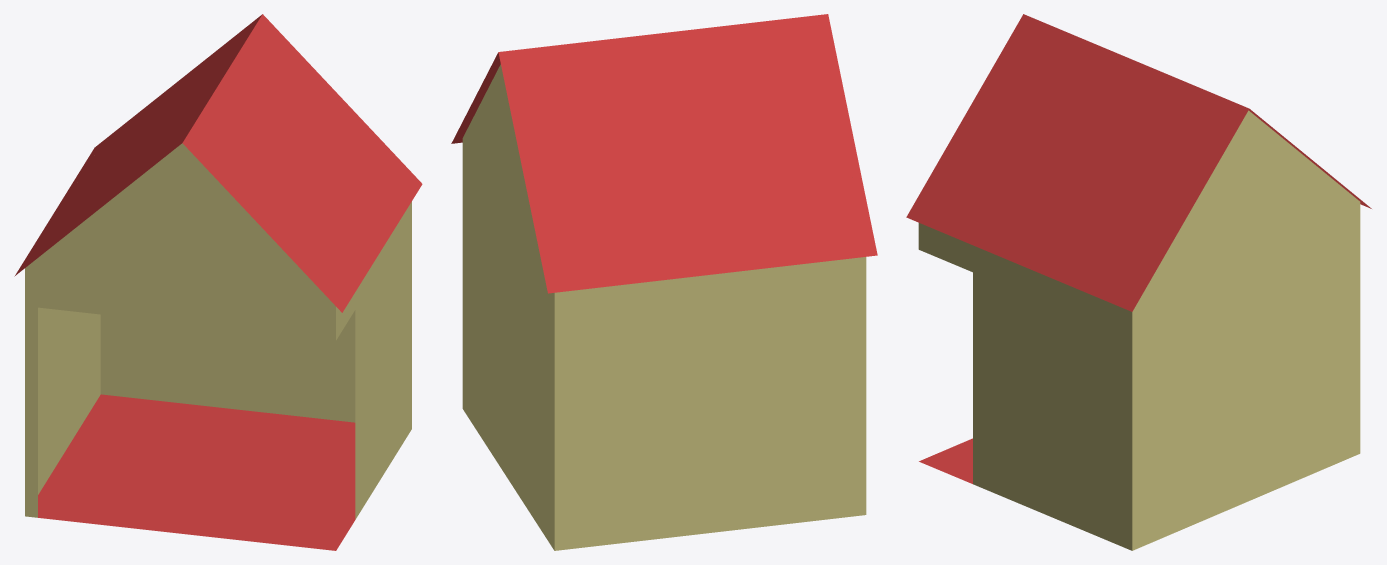
3 views of the same model, side by side, from view 1: azimuth 30°, elevation 25°; view 2: azimuth 150°, elevation 25°; view 3: azimuth 270°, elevation 25° (orthographic). The views are drawn at different scales.
Size of the model in its own units: 13.42 by 13.41 by 12.61.
